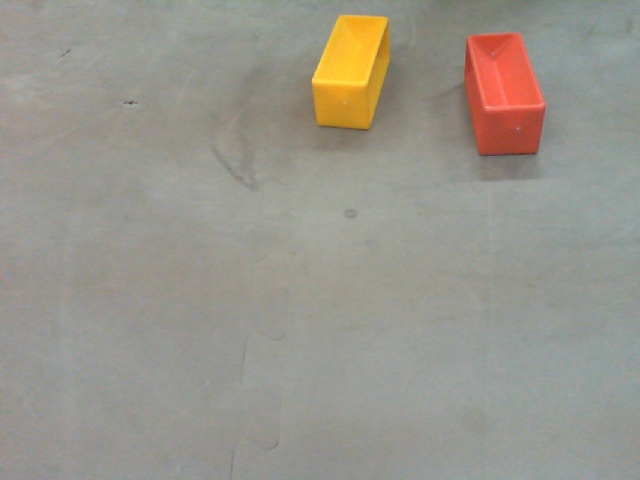RedSample: (463, 32, 548, 159)
YellowSample: (313, 15, 388, 124)
